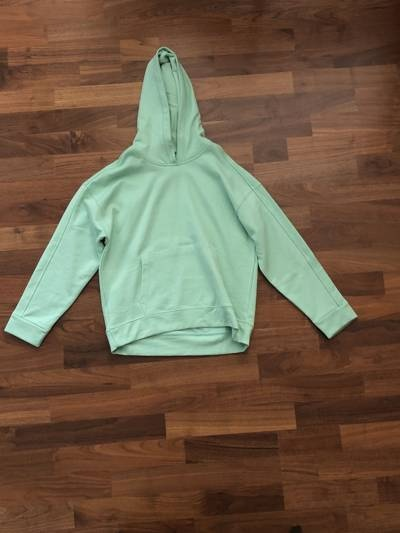Hoodie: (11, 46, 362, 364)
